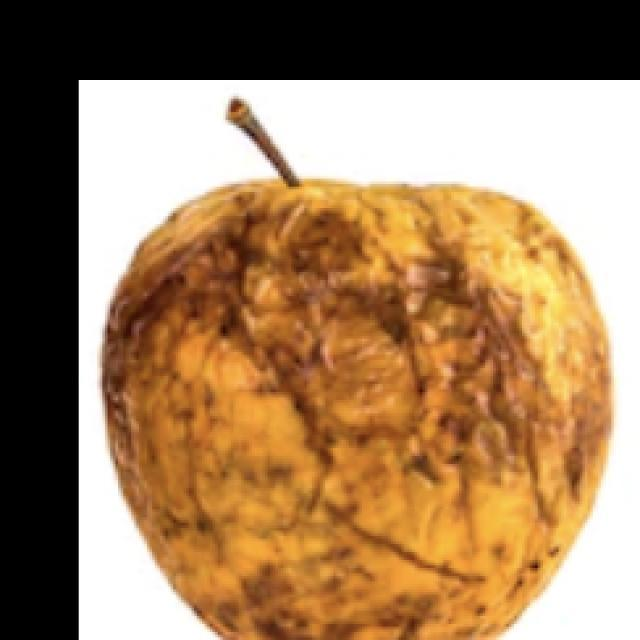Rotten: (105, 174, 619, 640)
